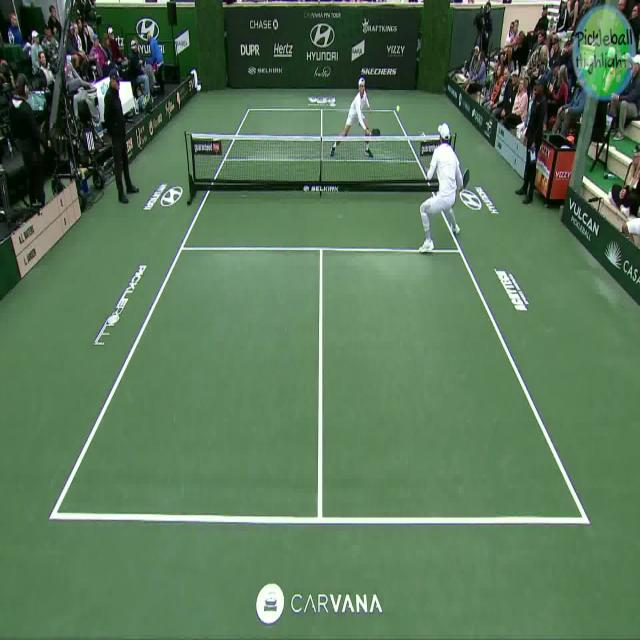Court: (55, 105, 586, 520)
ball: (394, 99, 404, 117)
